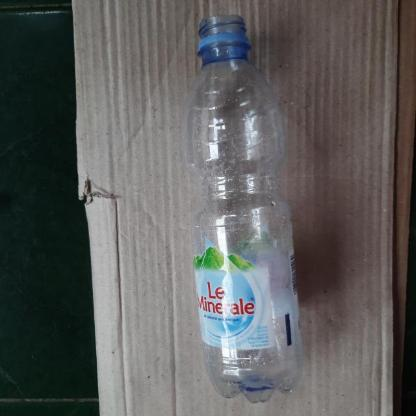Plastic Bottle: (184, 15, 304, 404)
